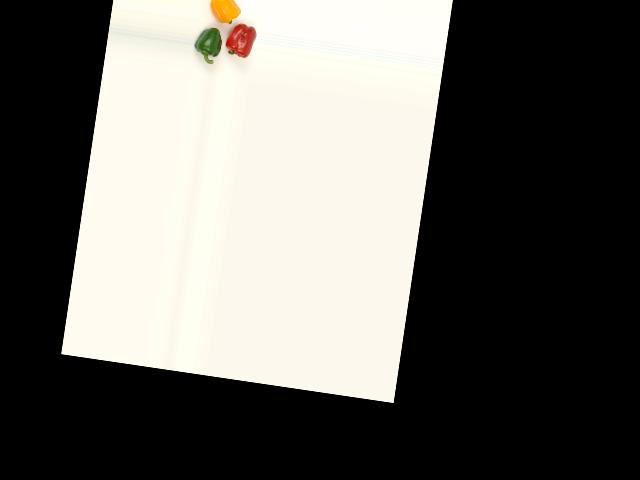bell_pepper: (191, 24, 225, 66)
